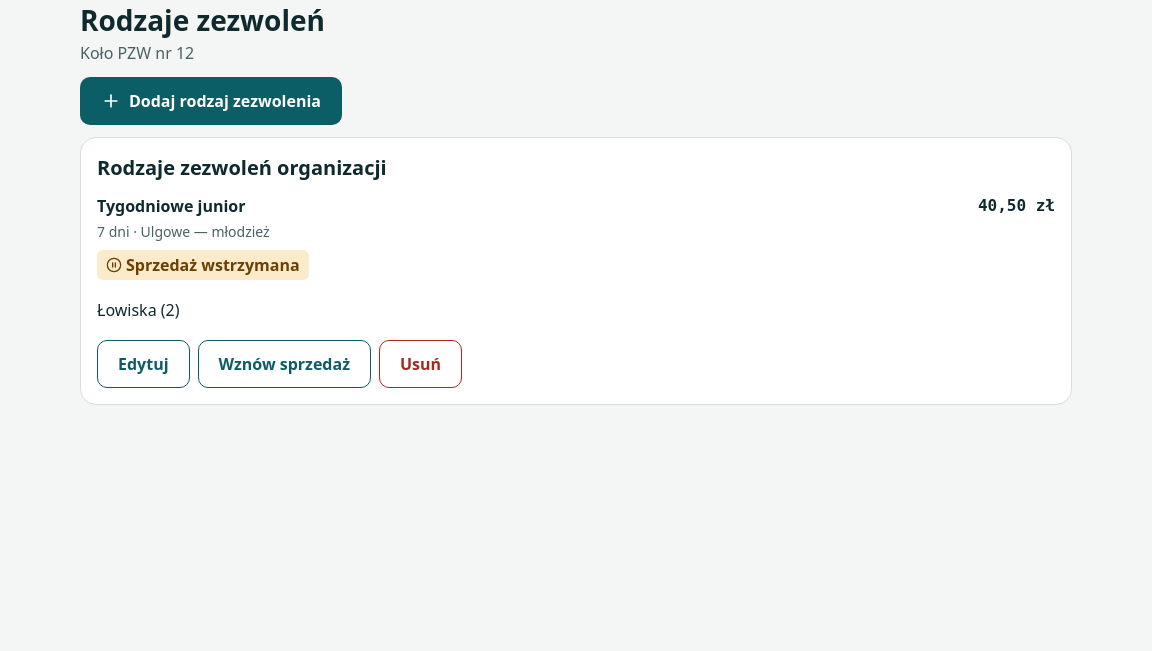
Test: organization permit types page › sends every field of a type nobody has bought
Click the button "Edytuj" at [143, 364], box top-left (97, 340), bottom-right (190, 388)
(page scrolled)
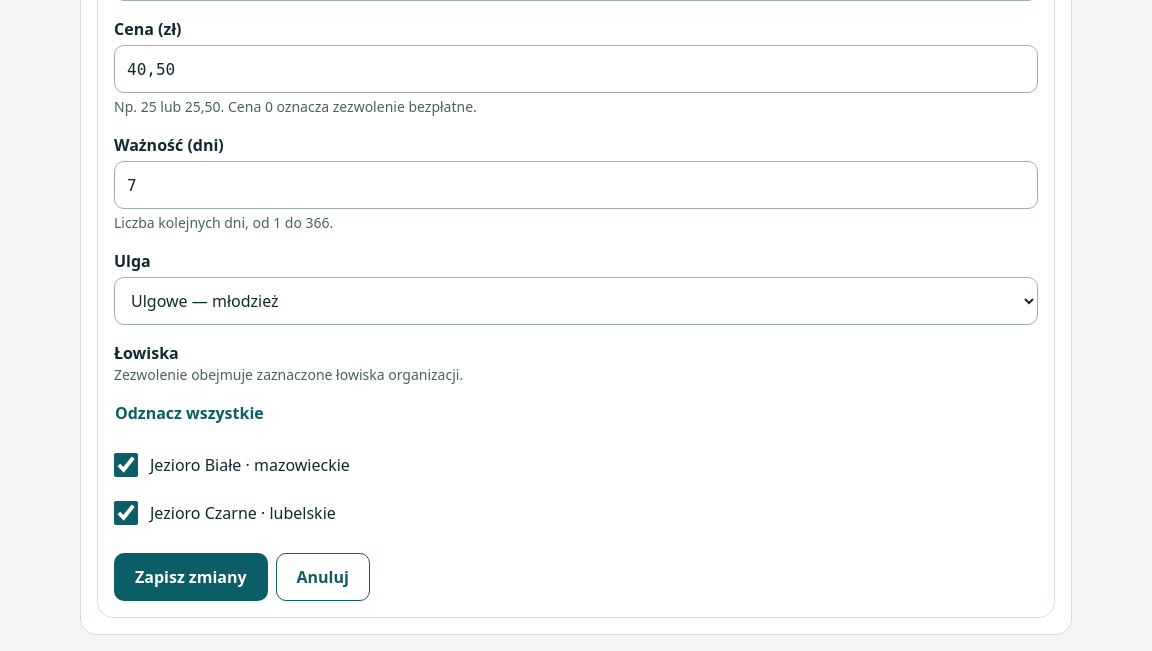
Click the checkbox labelled "Jezioro Białe · mazowieckie" at [126, 465], box top-left (114, 453), bottom-right (138, 477)
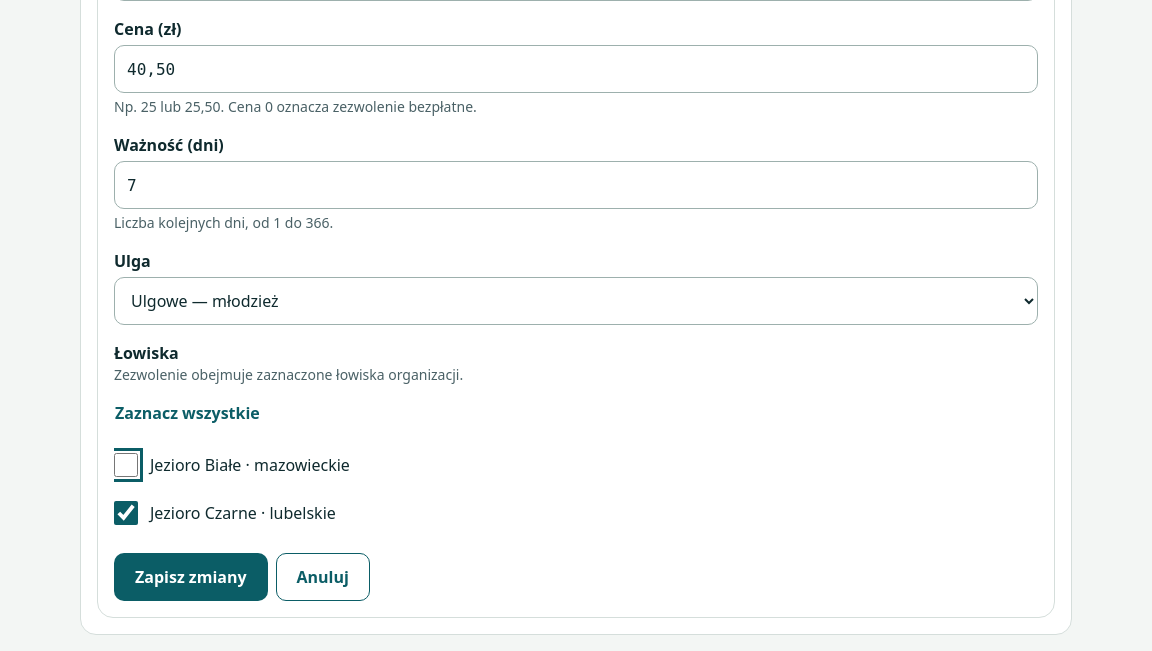
Select "Normalne" in the dropdown labelled "Ulga" at [576, 301], box top-left (114, 277), bottom-right (1038, 325)
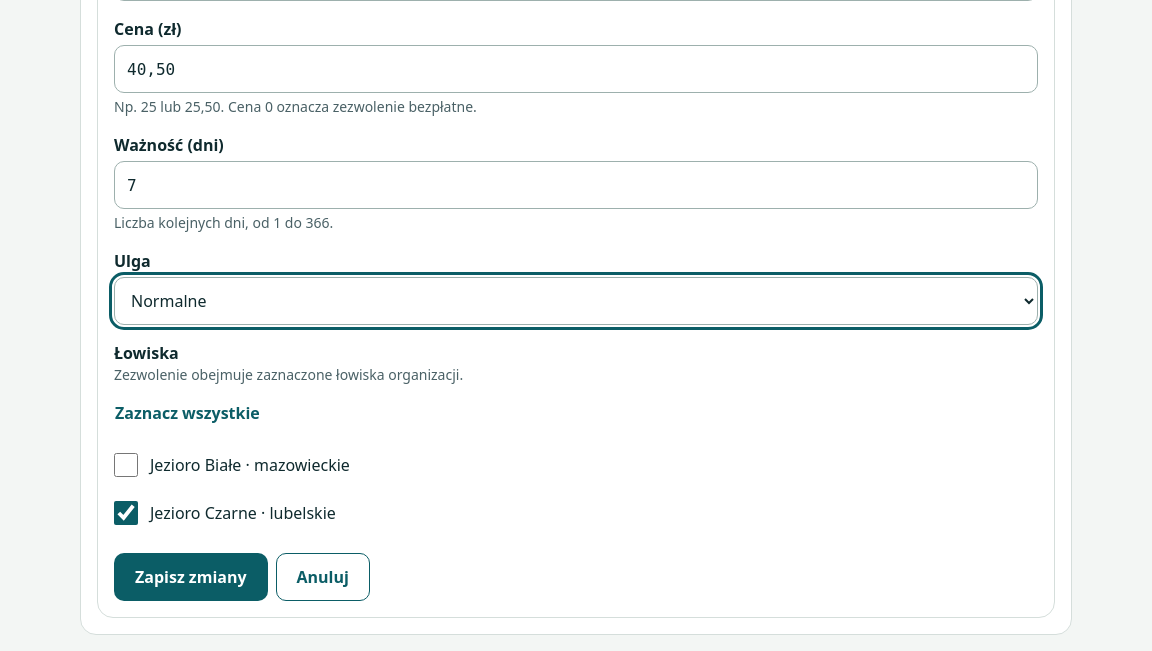
Click the button "Zapisz zmiany" at [191, 577], box top-left (114, 553), bottom-right (268, 601)
(page scrolled)
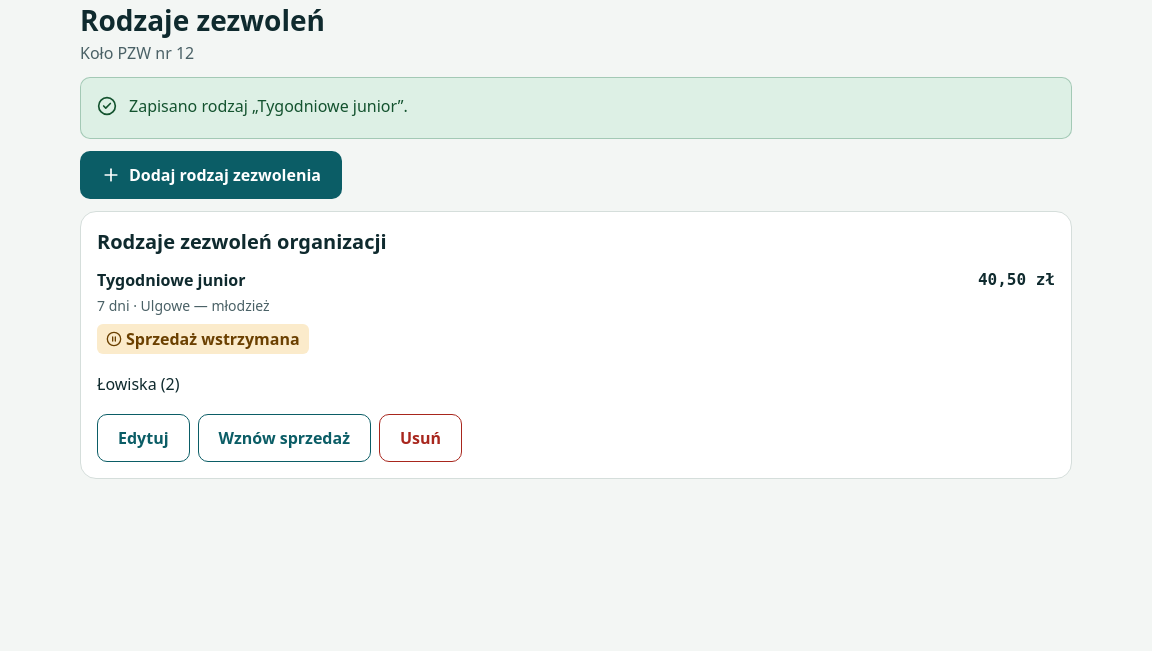
expect the message "Zapisano rodzaj „Tygodniowe junior”." is shown: met, box top-left (80, 77), bottom-right (1072, 139)
